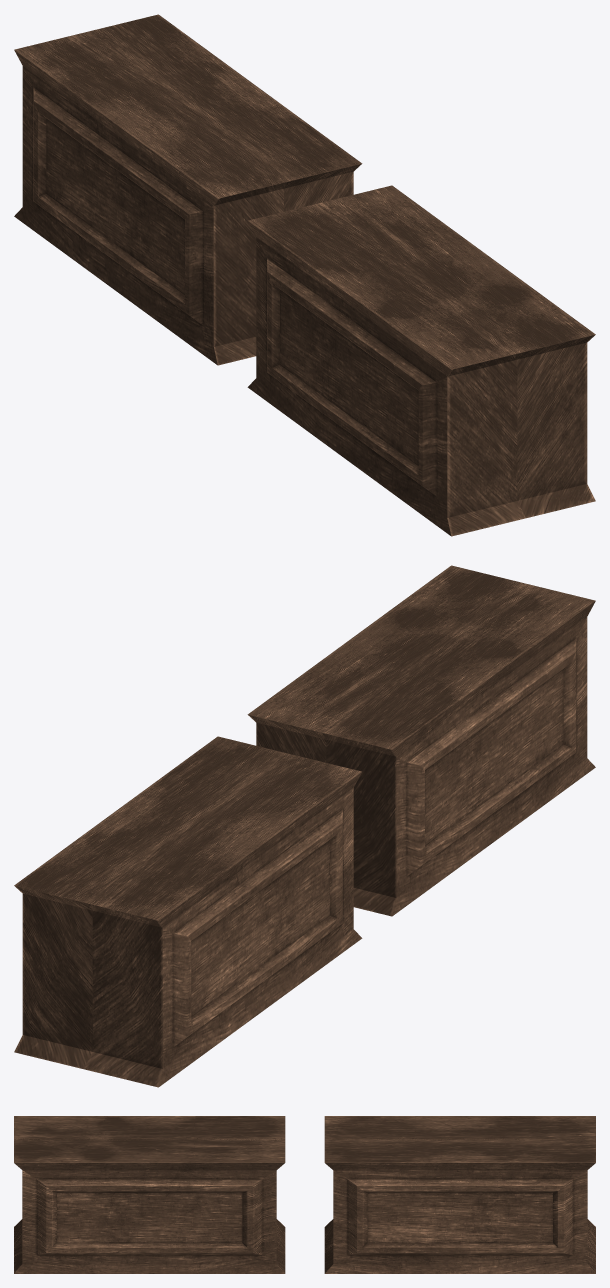
Rendered from table (1).fbx.
The picture shows the model from 3 angles, top to bottom: view 1: azimuth 30°, elevation 25°; view 2: azimuth 150°, elevation 25°; view 3: azimuth 270°, elevation 25°; orthographic projection. The views are drawn at different scales.
Parts seen in each view (by area): view 1: Cube.004; view 2: Cube.004; view 3: Cube.004.
Boxes of the visible parts, box(x1,y1,x2,y2) form: Cube.004: box(14, 14, 595, 536); Cube.004: box(14, 565, 595, 1087); Cube.004: box(14, 1116, 595, 1273).
Bounding box in the file's own units: 70.1 × 72.82 × 346.
1 material, 1 textured.
